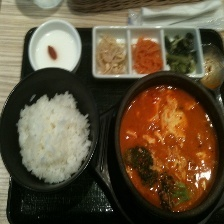rice: (12, 91, 93, 184)
